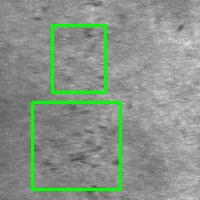rolled-in_scale: (32, 102, 120, 189), (52, 25, 105, 92)
